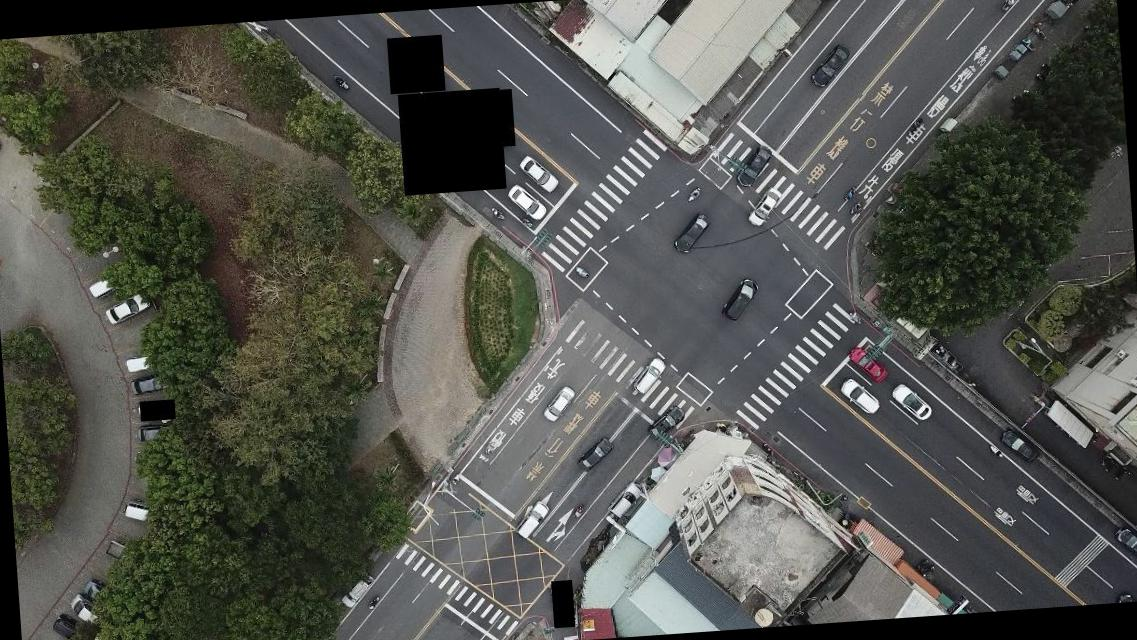vehicle: (808, 42, 853, 88), (889, 381, 934, 423), (505, 181, 549, 223), (670, 210, 712, 253), (720, 277, 760, 321), (838, 376, 882, 416), (734, 144, 773, 186), (519, 152, 558, 194), (848, 344, 888, 384), (745, 185, 783, 226), (1000, 426, 1040, 464), (104, 292, 151, 324), (574, 436, 614, 472), (631, 354, 667, 392), (515, 500, 551, 538), (647, 405, 686, 440), (607, 482, 642, 520), (338, 572, 374, 608), (541, 385, 576, 422), (70, 592, 100, 626), (86, 270, 118, 300), (120, 498, 152, 526), (129, 373, 167, 396), (1114, 525, 1136, 562), (130, 425, 170, 444), (52, 611, 79, 639), (126, 352, 158, 374), (82, 580, 103, 598)
